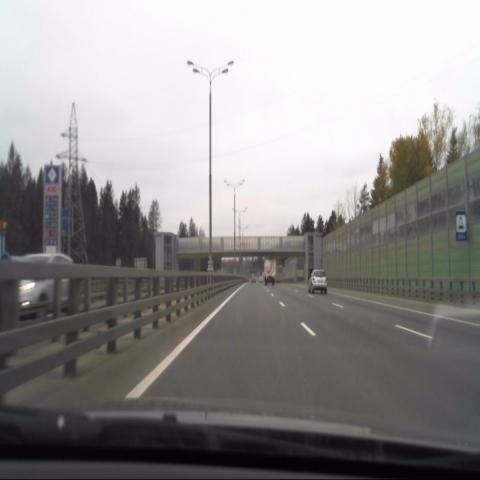7_5: (456, 211, 467, 242)
